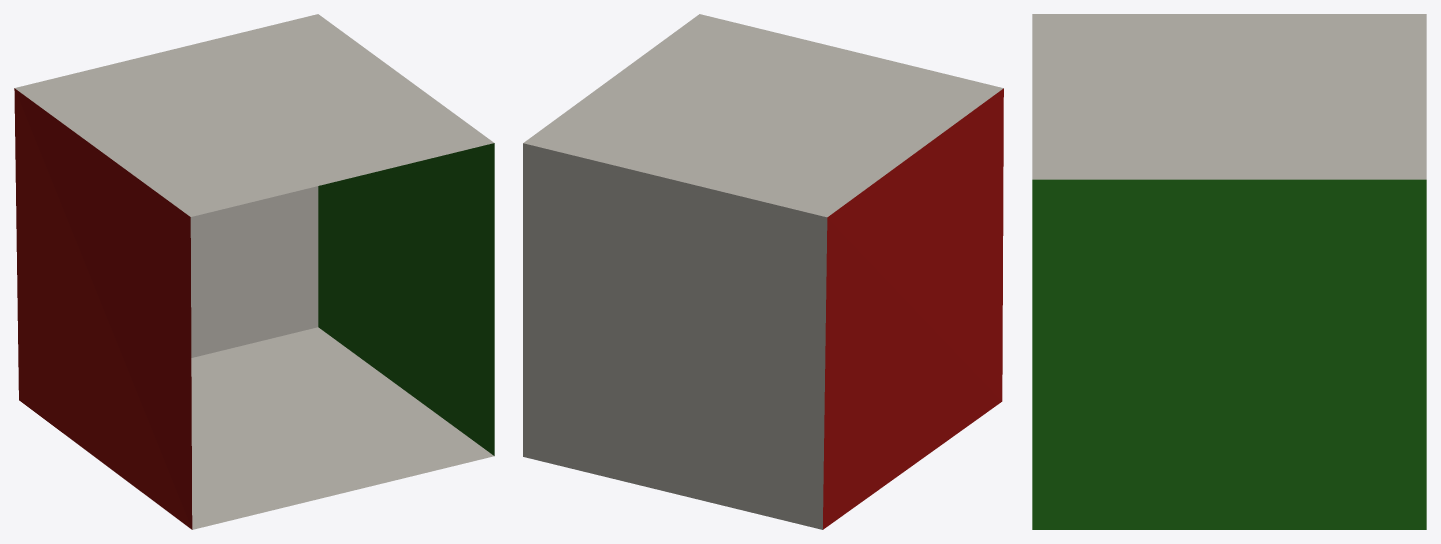
Rendered from CornellBox-Original.obj.
3 views of the same model, side by side, from view 1: azimuth 30°, elevation 25°; view 2: azimuth 150°, elevation 25°; view 3: azimuth 270°, elevation 25° (orthographic). The views are drawn at different scales.
Visible parts, largest first — view 1: leftWall, ceiling, rightWall, floor, backWall; view 2: backWall, leftWall, ceiling; view 3: rightWall, ceiling.
Boxes of the visible parts, x1,y1,x2,y2 form: leftWall: [14, 88, 192, 529]; ceiling: [15, 14, 493, 216]; rightWall: [318, 143, 494, 455]; floor: [191, 327, 493, 529]; backWall: [190, 186, 318, 357]; backWall: [523, 143, 827, 529]; leftWall: [823, 88, 1003, 529]; ceiling: [523, 14, 1003, 217]; rightWall: [1032, 179, 1426, 529]; ceiling: [1032, 14, 1426, 179].
Size of the model in its own units: 2.02 by 1.99 by 2.03.
